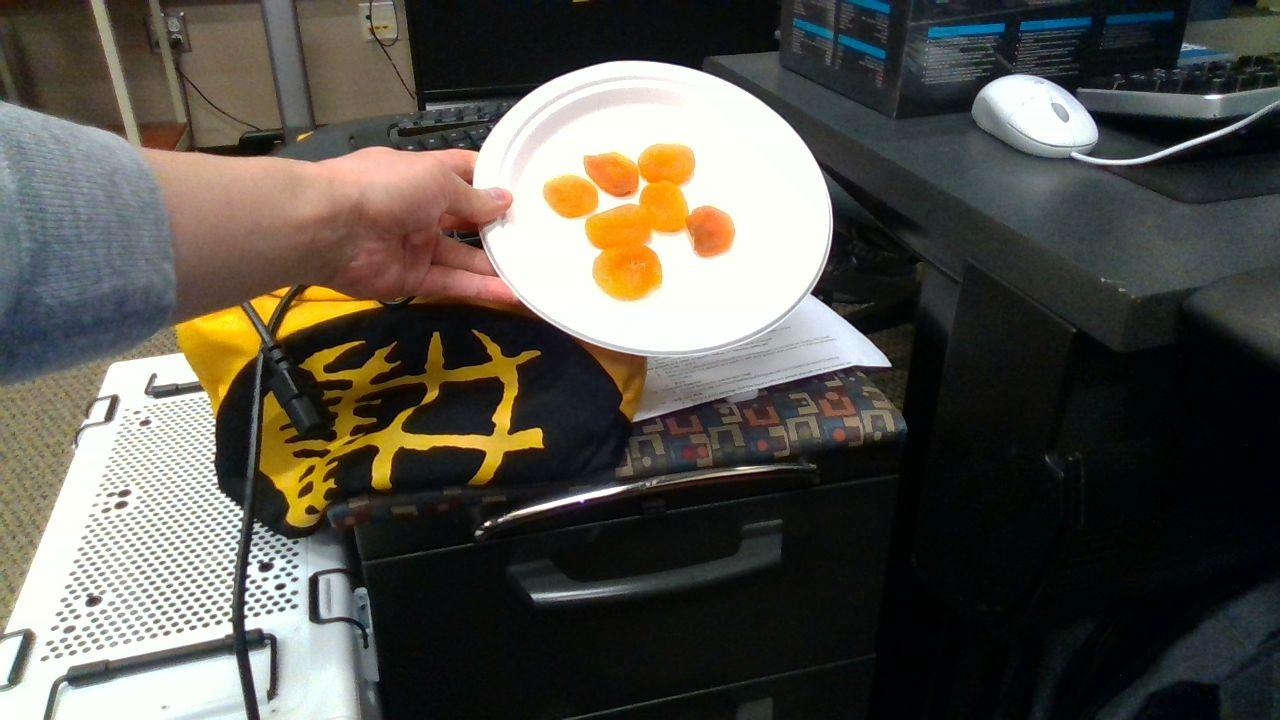apricot: (596, 246, 662, 299), (587, 205, 651, 247), (585, 152, 639, 197), (689, 206, 735, 256), (642, 182, 687, 233), (544, 176, 597, 219), (640, 145, 694, 182)
plate: (473, 61, 833, 356)
